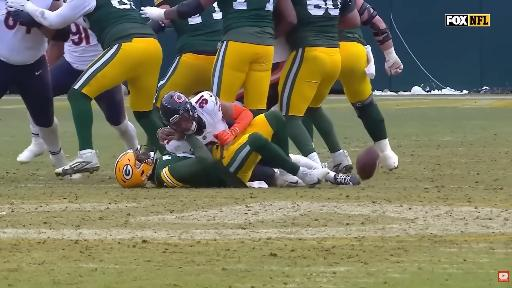Helmet: (160, 92, 198, 134), (115, 150, 155, 188)
Jersey: (84, 0, 156, 50), (150, 154, 246, 187), (0, 0, 47, 65), (172, 3, 222, 55), (287, 0, 340, 49), (218, 0, 274, 45), (151, 154, 219, 187), (191, 92, 228, 144), (64, 23, 102, 70), (273, 36, 291, 63), (338, 28, 366, 45)
Player: (8, 0, 162, 175), (161, 92, 328, 185), (279, 0, 354, 173), (0, 0, 69, 167), (339, 29, 398, 170), (212, 0, 274, 115), (155, 3, 222, 107), (115, 135, 246, 188), (47, 23, 102, 97), (267, 6, 296, 110), (250, 159, 292, 186)
